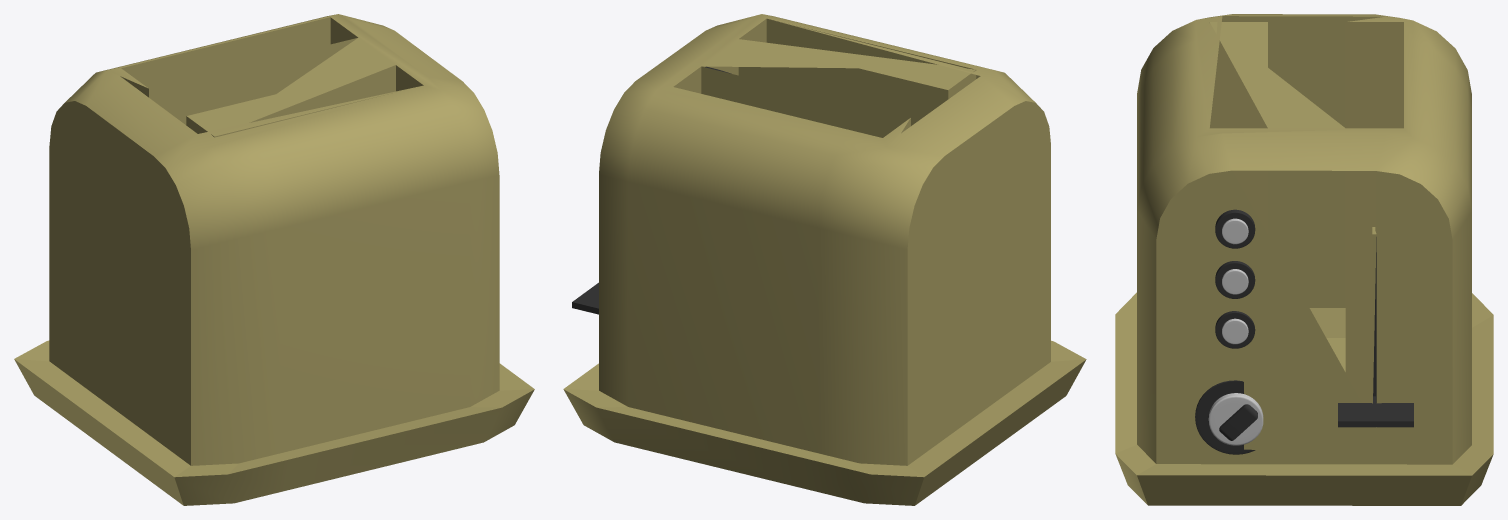
The model's file is Toaster.fbx.
3 views of the same model, side by side, from view 1: azimuth 30°, elevation 25°; view 2: azimuth 150°, elevation 25°; view 3: azimuth 270°, elevation 25° (orthographic). The views are drawn at different scales.
Parts seen in each view (by area): view 1: pCube18; view 2: pCube18; view 3: pCube18.
Boxes of the visible parts, box(x1,y1,x2,y2) form: pCube18: box(14, 14, 534, 505); pCube18: box(563, 14, 1086, 505); pCube18: box(1115, 14, 1493, 505).
Size of the model in its own units: 41.89 by 35.09 by 34.68.
